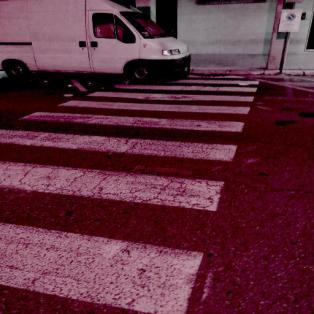Paso de Cebra: (15, 99, 255, 137)
